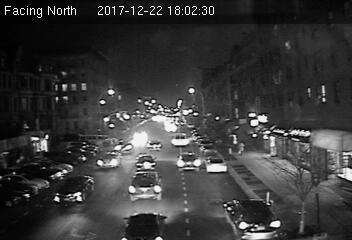car: (223, 199, 283, 240), (52, 176, 95, 204), (127, 170, 162, 201), (175, 151, 201, 171), (96, 151, 120, 168), (205, 157, 228, 173), (135, 153, 157, 169), (146, 138, 162, 152)
truck: (172, 132, 188, 147)
